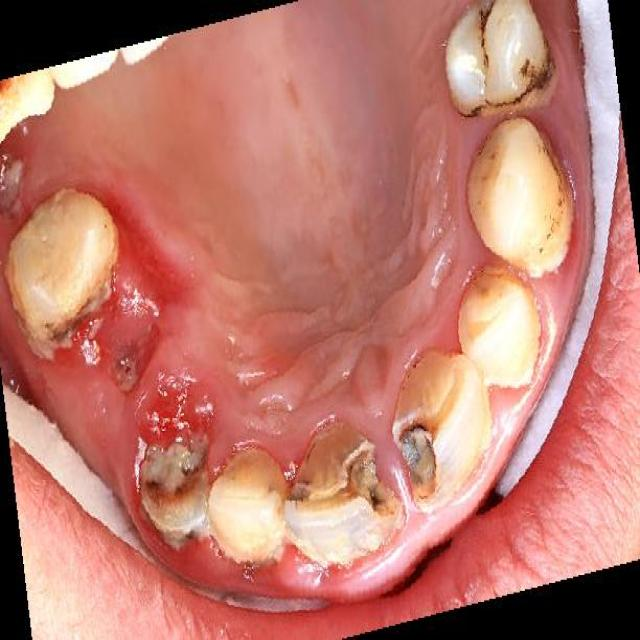caries: (291, 416, 394, 560), (138, 440, 217, 536), (398, 376, 457, 498), (470, 0, 497, 62)
